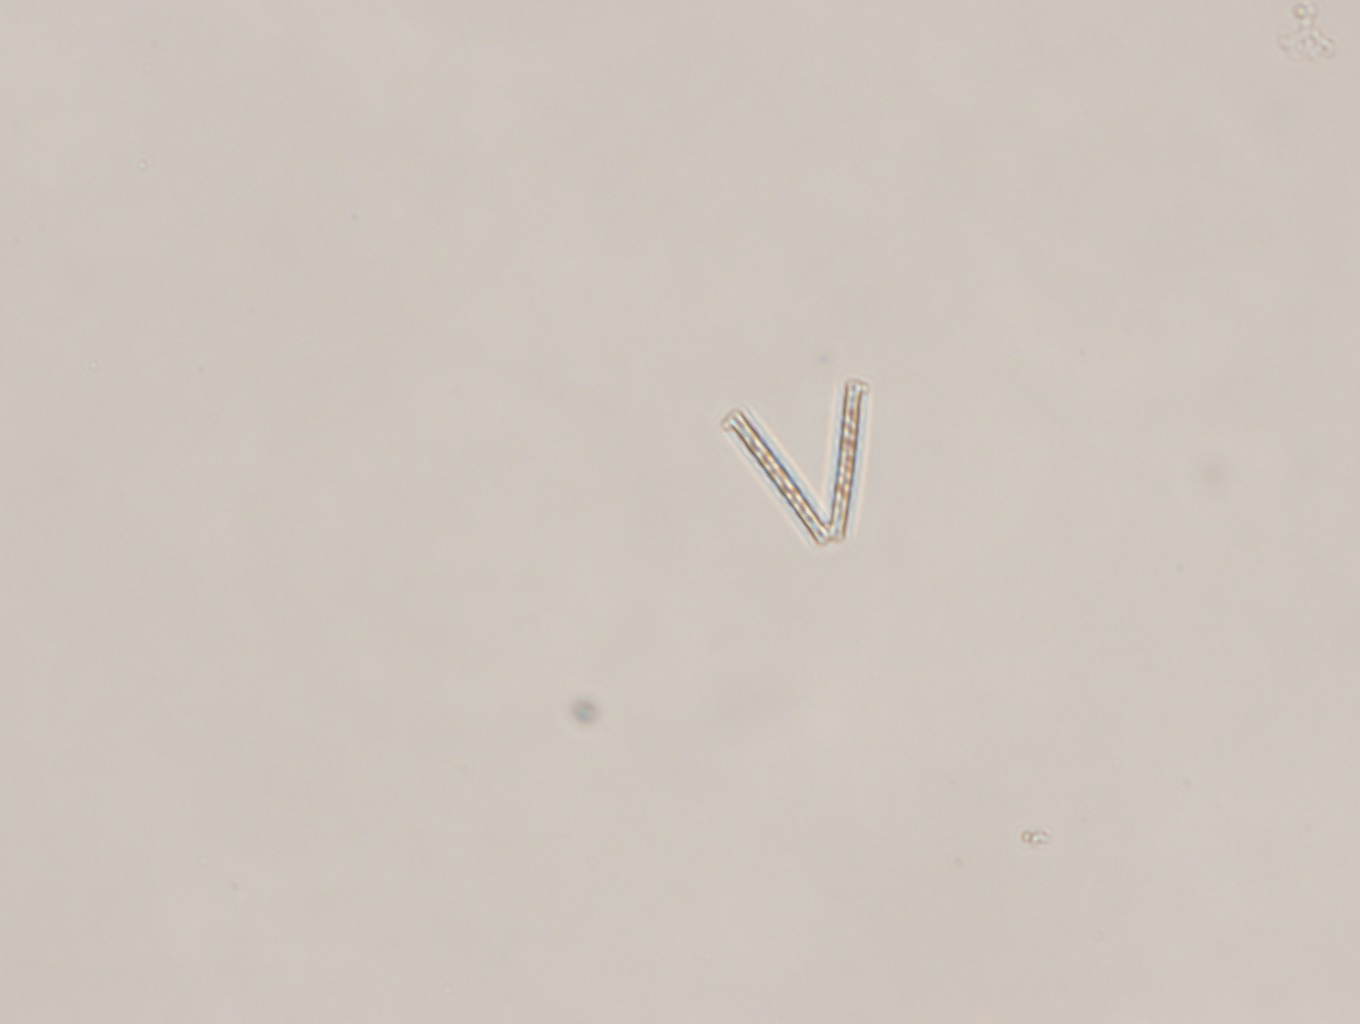thalassionema nitzschioides: (718, 368, 876, 550)
